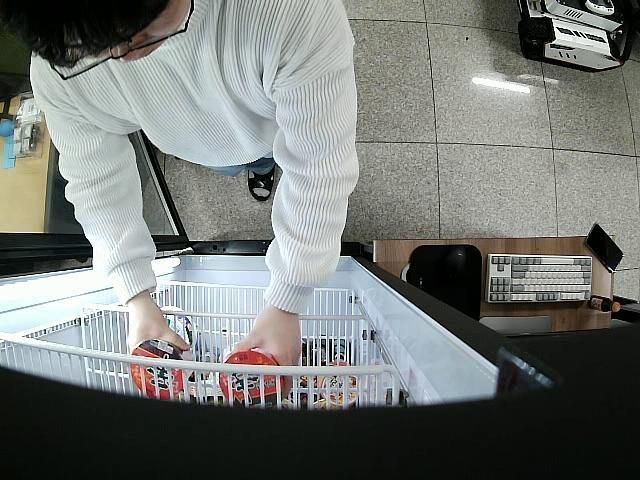02_shinRamen_S: (128, 338, 196, 402), (217, 350, 285, 408)
